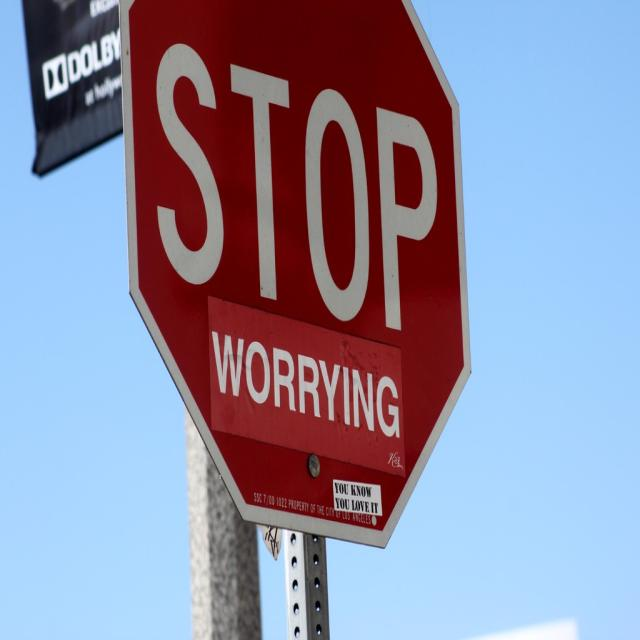Stop-sign: (119, 0, 472, 551)
